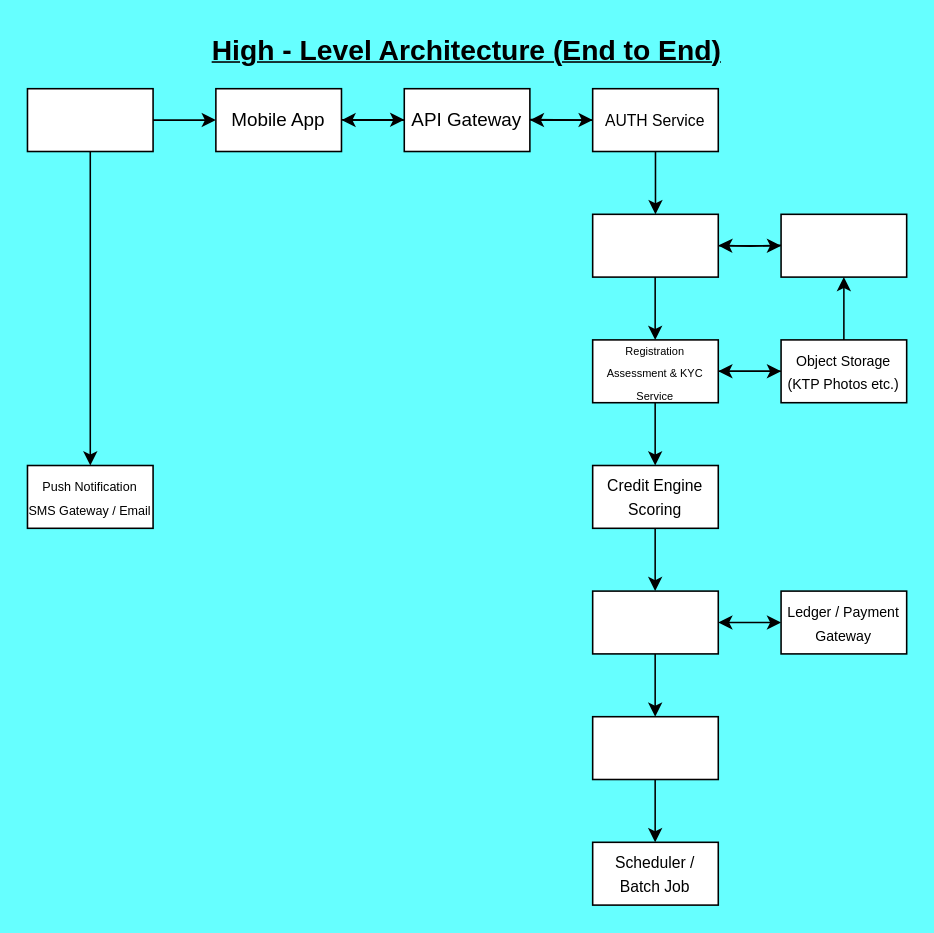
Some shapes in this 934 by 933 pixel diagram are drawn without their labels. Here are the shapes that lost their labels. From the top down, the centre of each, then its label:
the point at 89,119: START
the point at 654,245: User Service
the point at 843,245: RDBMS
the point at 654,622: Loan Service
the point at 654,747: Background Worker
